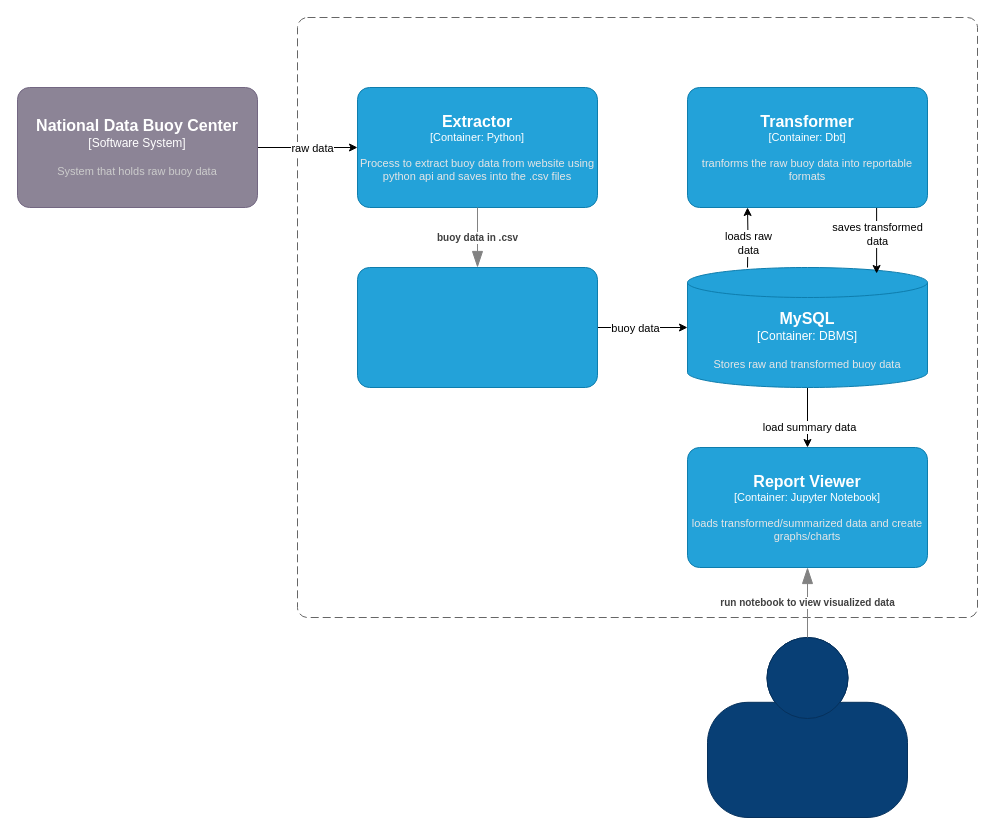
Some shapes in this 995 by 835 pixel diagram are drawn without their labels. The box of each missing label's shape, as (x1, y1, x2, y2) in pixels:
Data Pipeline [Software System]: (296, 16, 978, 618)
Loader [Container: Python] Takes the .csv and load into database tables: (356, 266, 598, 388)
User [Person] Description of person.: (706, 636, 908, 818)
